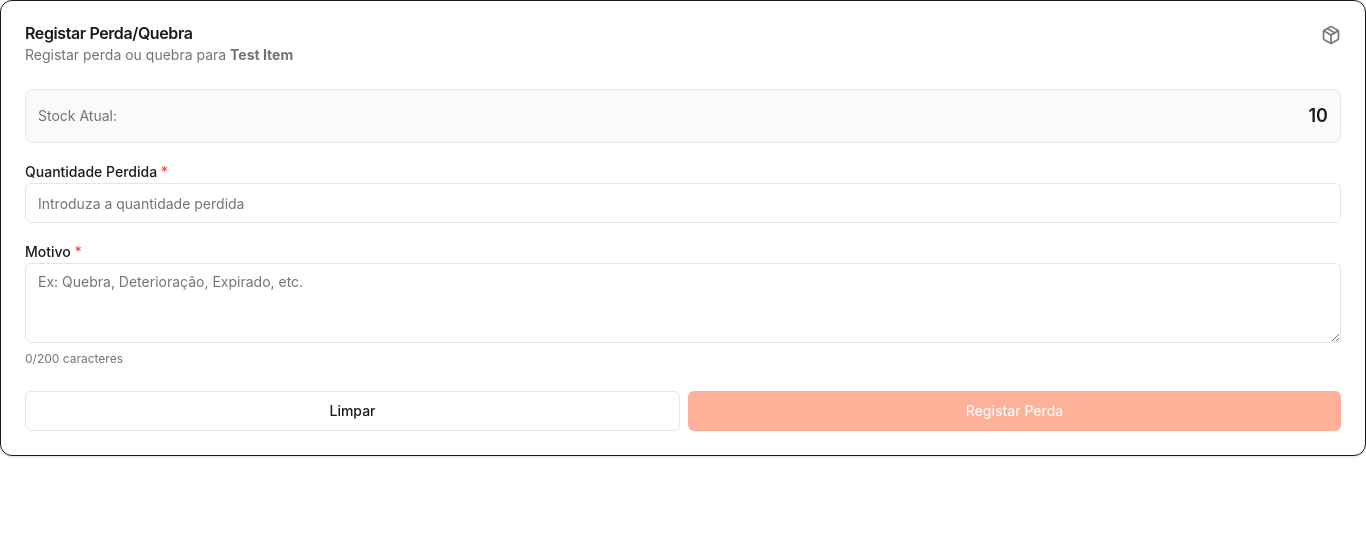
Test: LossRecordForm › records loss within stock limit
# Enter valid loss data
In the number field labelled "Quantidade Perdida *": (683, 203) [25,183,1341,223], type "5"
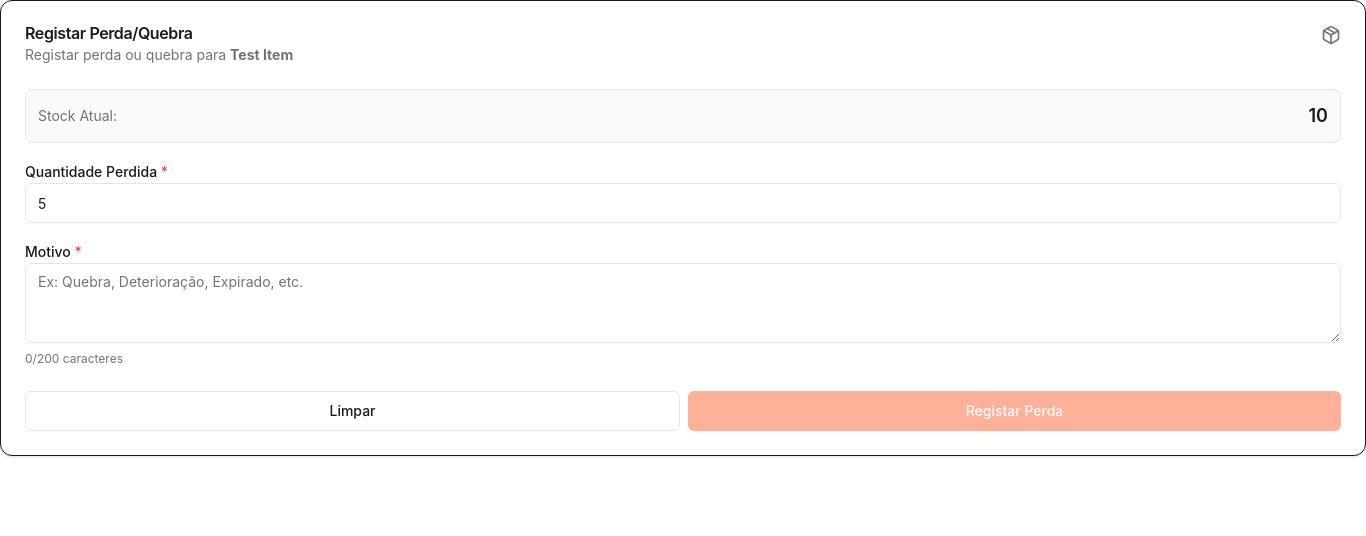
In the text box labelled "Motivo *": (683, 303) [25,263,1341,343], type "Quebra"
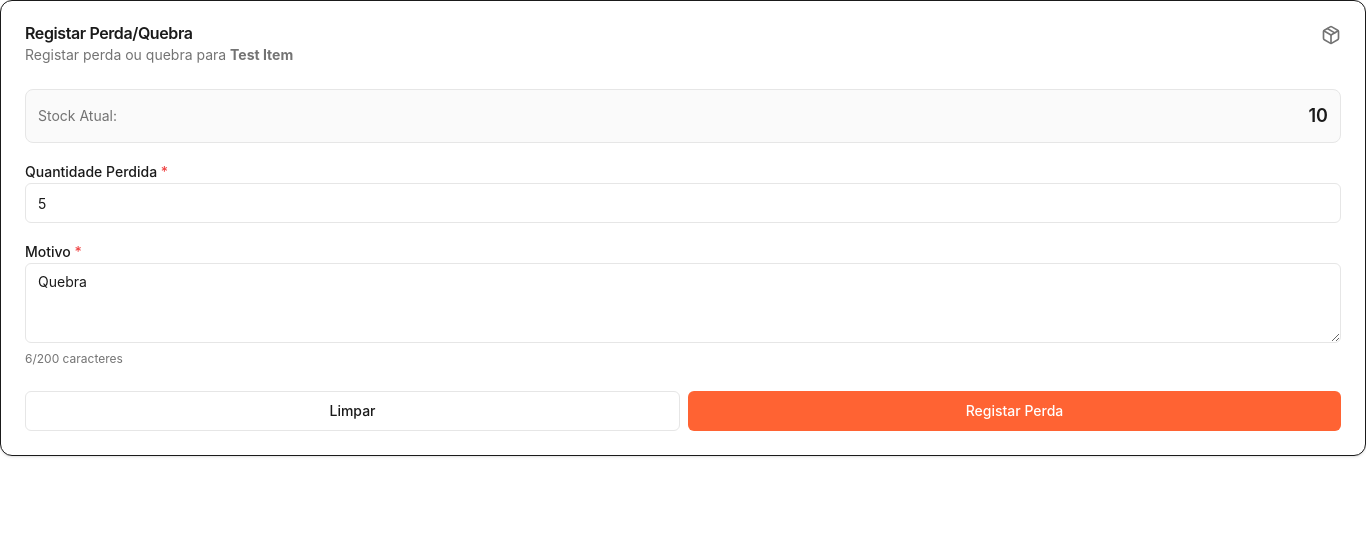
Click the button "Registar Perda": (1014, 411) [688,391,1341,431]
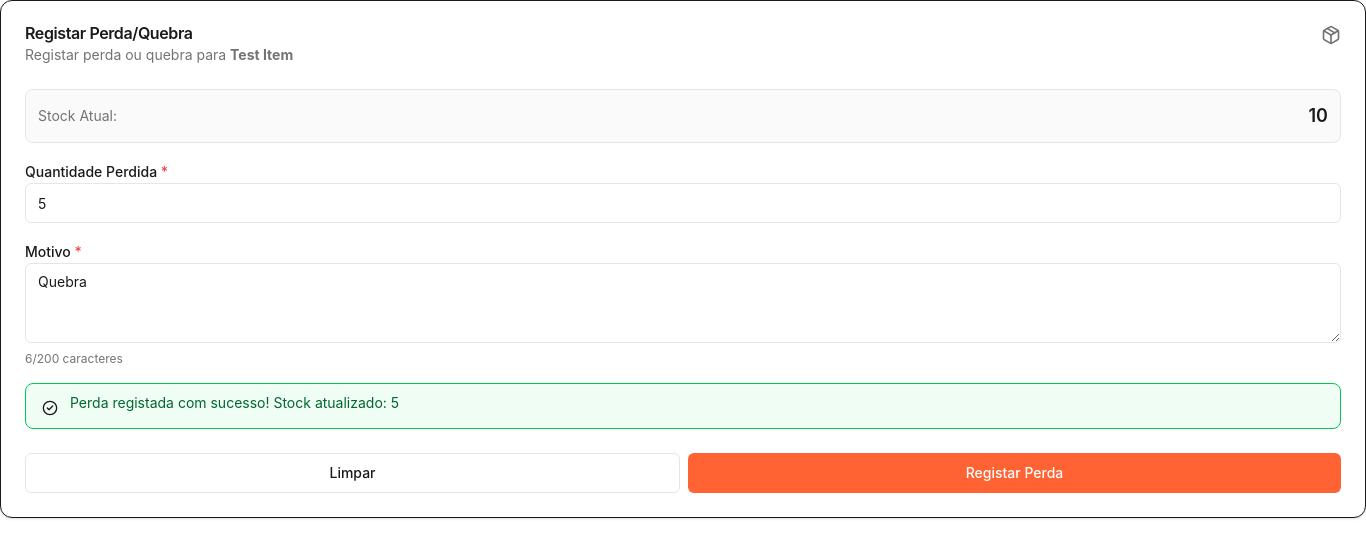
Expected: the text "Perda registada com sucesso! Stock atualizado: 5" is shown, [70,394,399,411]
